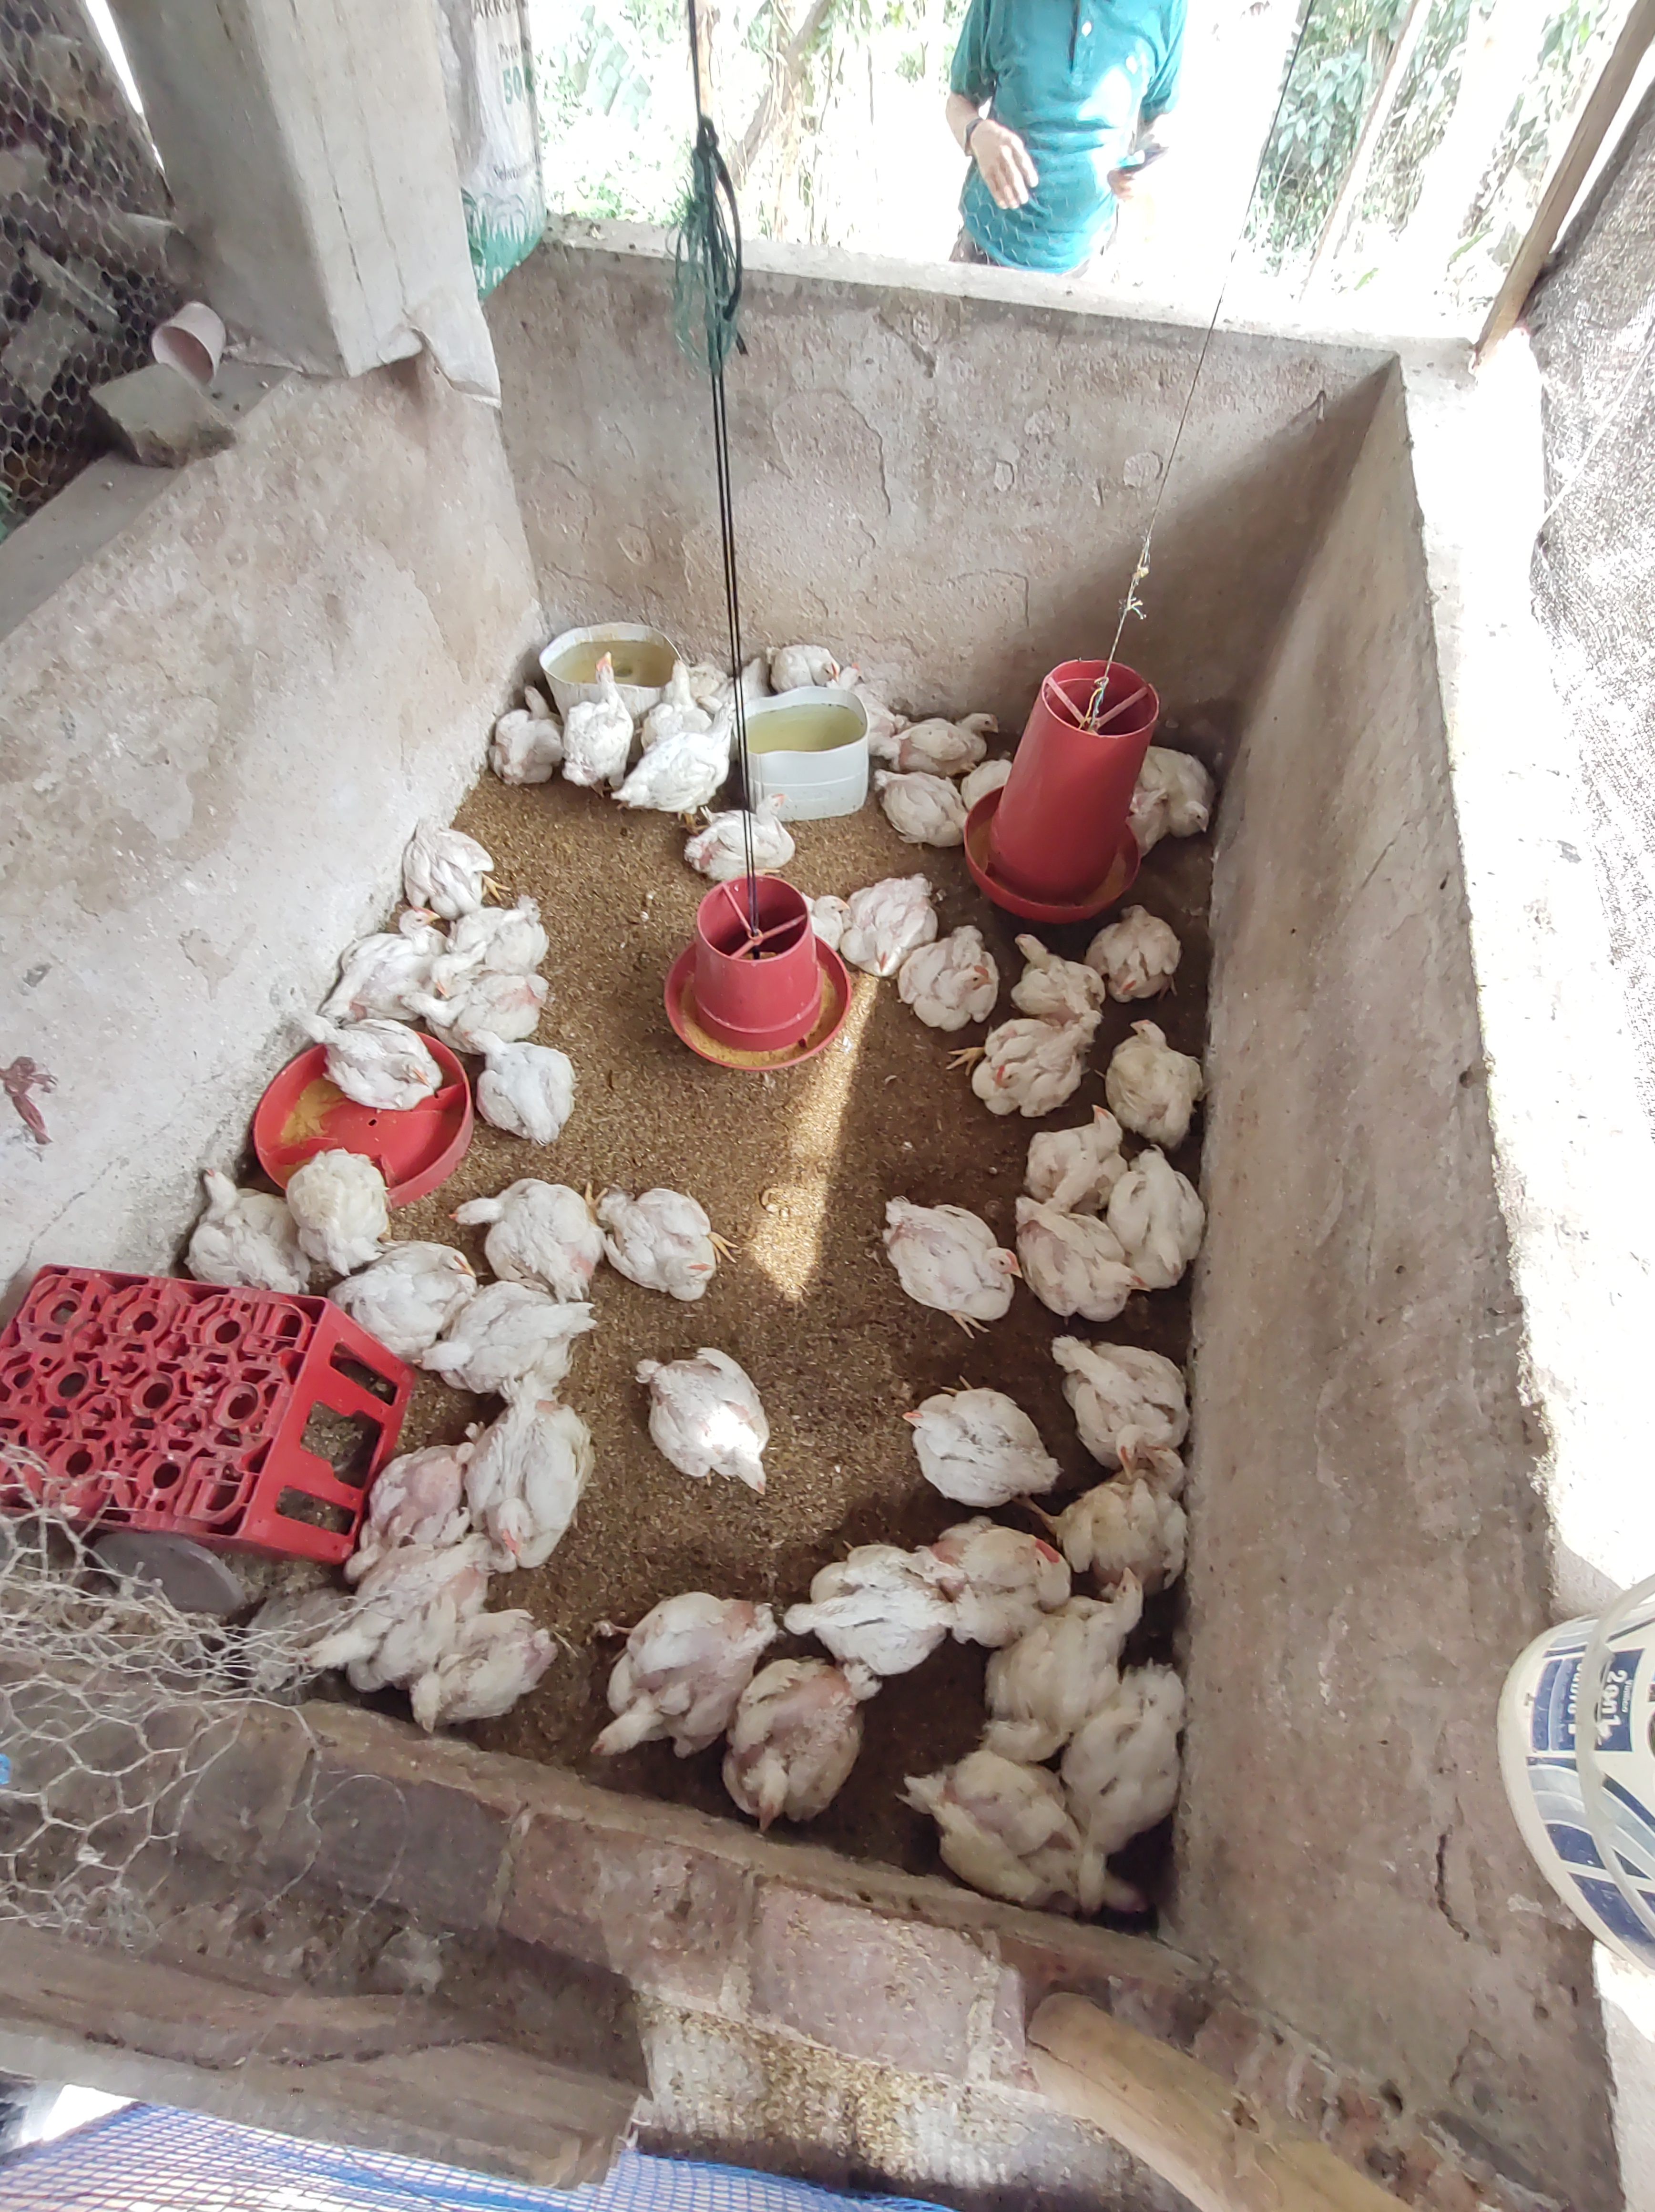Pollos: (918, 1746, 1113, 1922), (589, 1589, 723, 1767), (721, 1656, 841, 1835), (636, 1346, 775, 1494), (777, 1546, 942, 1668), (475, 1393, 589, 1567), (398, 1612, 556, 1736), (991, 1661, 1179, 1756), (336, 1456, 468, 1588), (414, 1290, 589, 1388), (901, 1386, 1052, 1499), (890, 1198, 1029, 1318), (619, 703, 753, 816), (1029, 1202, 1149, 1322), (447, 1176, 589, 1276), (602, 1191, 728, 1303), (937, 1518, 1076, 1619), (1053, 1334, 1144, 1480), (464, 1031, 577, 1144), (285, 1149, 395, 1259), (309, 1019, 442, 1103), (191, 1167, 289, 1280), (306, 1589, 424, 1682), (1120, 1016, 1203, 1134), (396, 812, 511, 897), (438, 903, 548, 989), (848, 875, 937, 974), (1121, 1449, 1193, 1569), (1067, 1563, 1149, 1668), (697, 790, 789, 882), (1012, 929, 1099, 1026), (1144, 1148, 1203, 1289), (880, 703, 1005, 767), (866, 769, 968, 847), (1033, 1106, 1120, 1196), (570, 650, 624, 793), (1140, 741, 1219, 836), (913, 939, 1001, 1023), (396, 969, 551, 1016), (975, 1035, 1069, 1106), (1116, 909, 1184, 1005), (502, 682, 562, 769), (365, 903, 436, 967), (763, 638, 843, 689), (645, 659, 699, 718), (814, 892, 848, 929)
